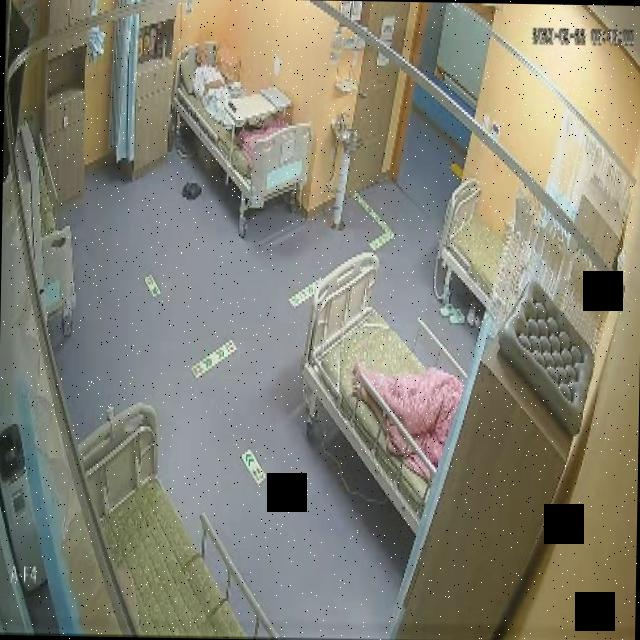bed: (72, 404, 282, 640), (298, 252, 460, 530), (166, 39, 314, 210), (439, 178, 504, 310)
lie: (190, 40, 234, 125)
patient: (190, 42, 232, 127)
